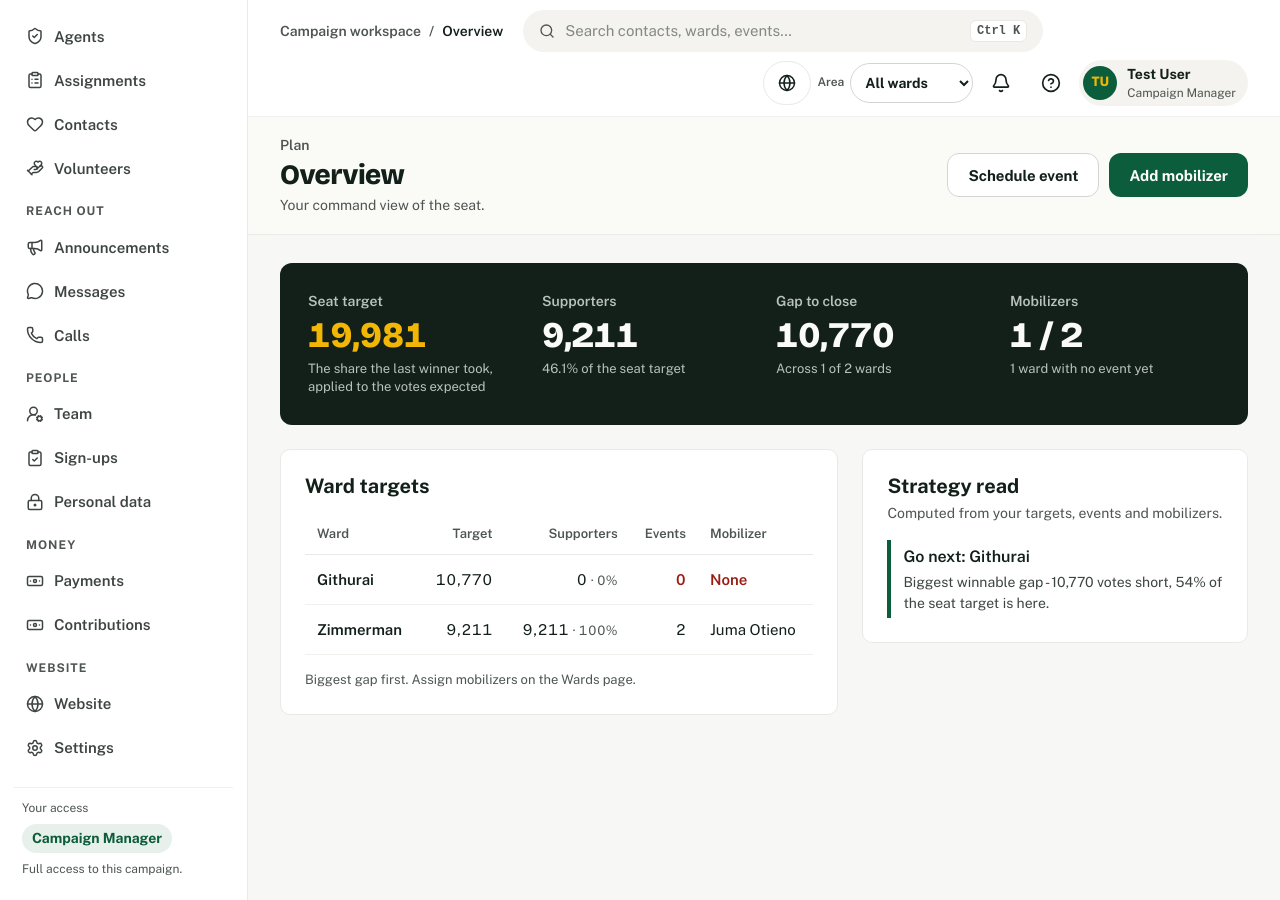
payments › releases a payment after showing that practice mode moves no money
The image size is (1280, 900).
(page scrolled)
Click the link "Payments".
click(75, 581)  # box [26,572,124,590]
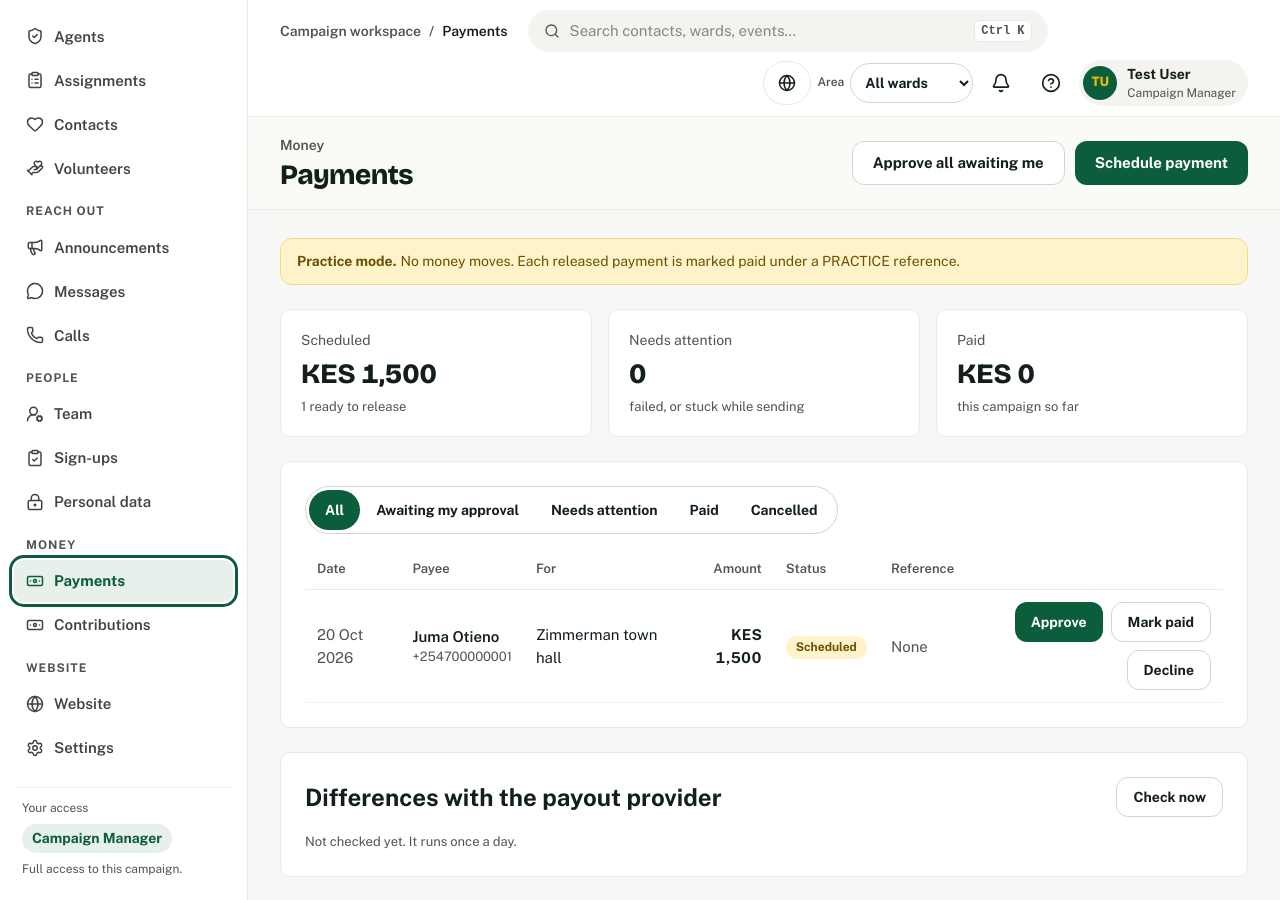
Expected: the text "Juma Otieno" is shown, [412,625,512,648]
Click the button "Approve".
click(1059, 622)  # box [1015,602,1103,642]
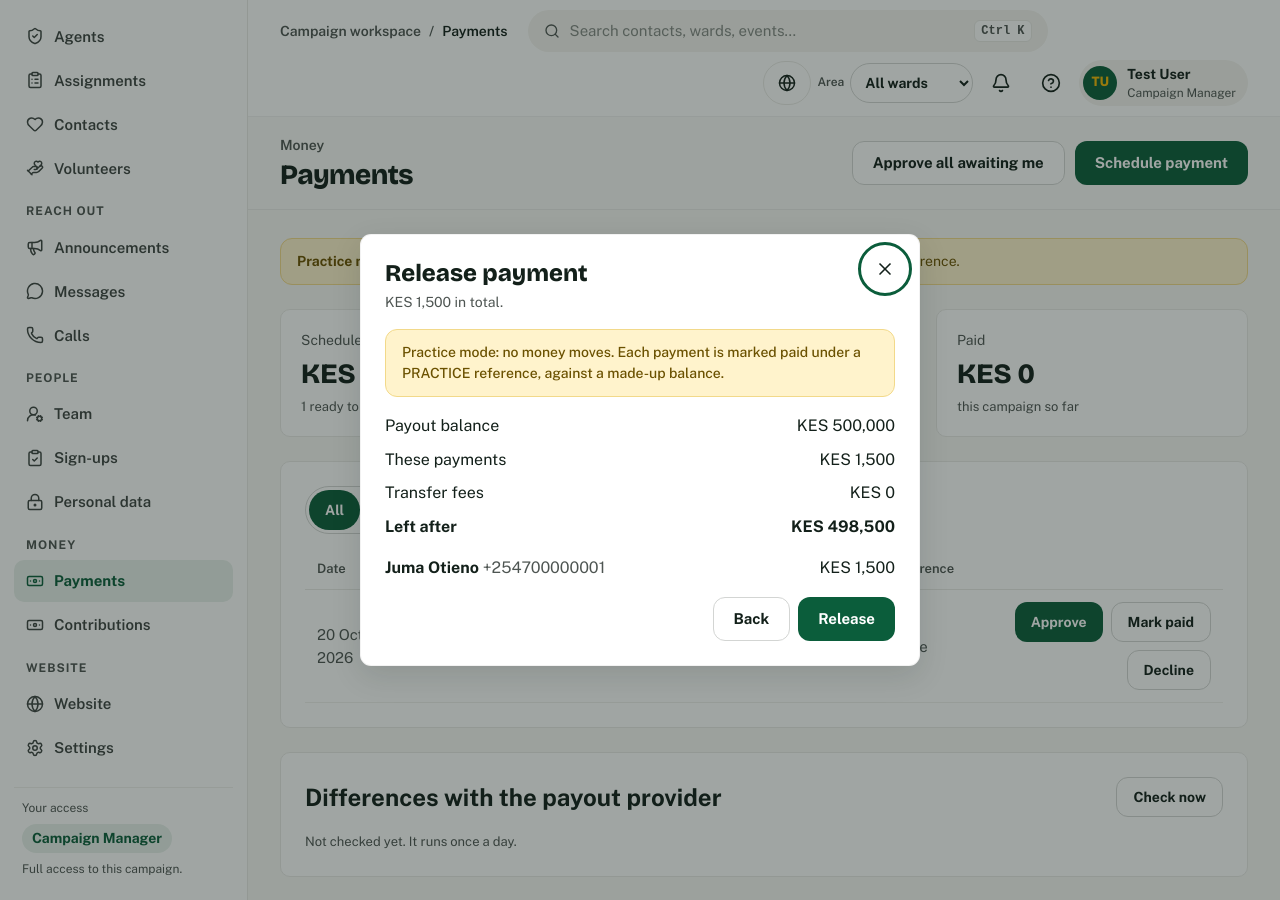
Expected: the text "Practice mode: no money moves" is shown, [402,344,861,381]
Click the button "Release".
click(847, 619)  # box [798,597,895,641]
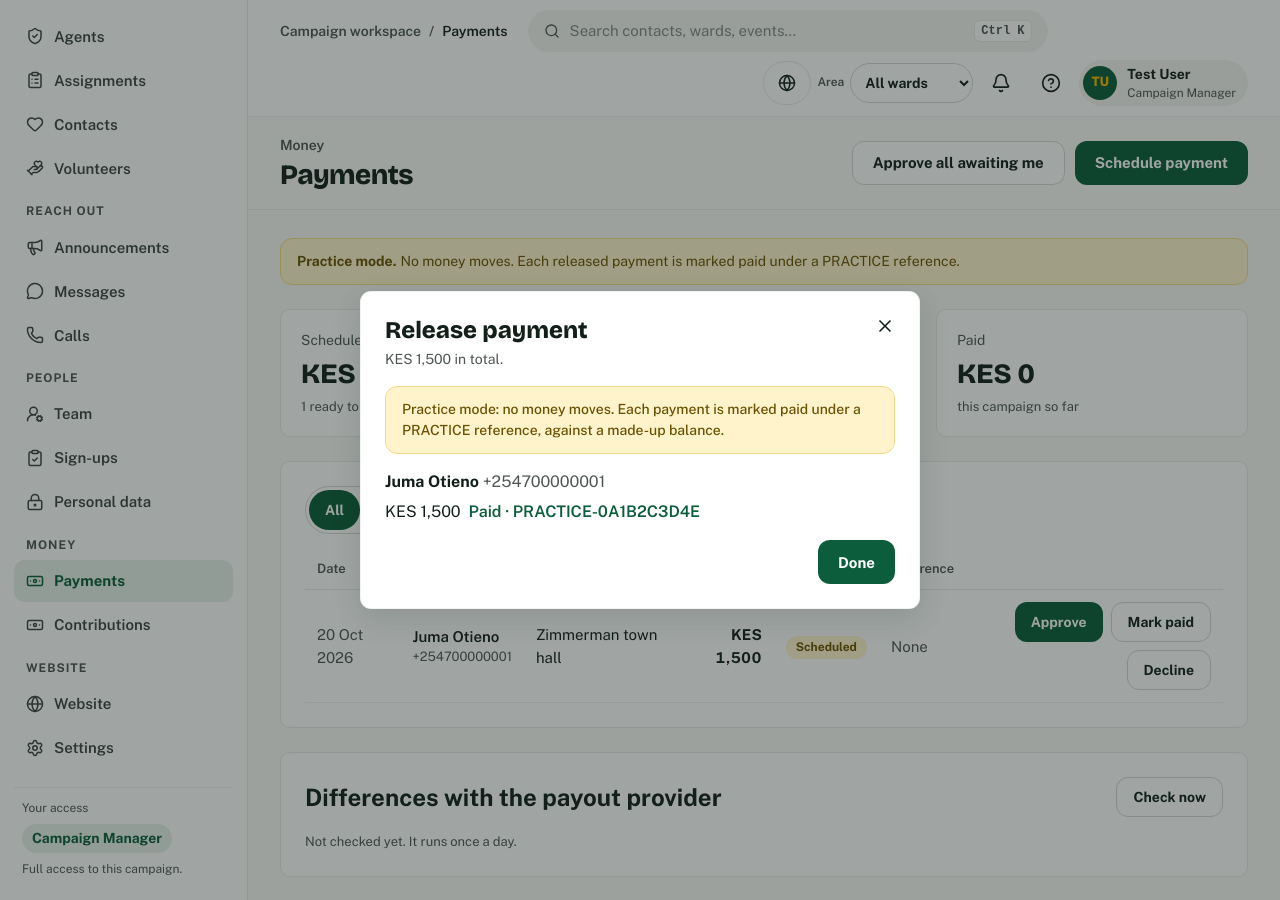
Expected: the text "Paid · PRACTICE-0A1B2C3D4E" is shown, [469,502,700,521]
